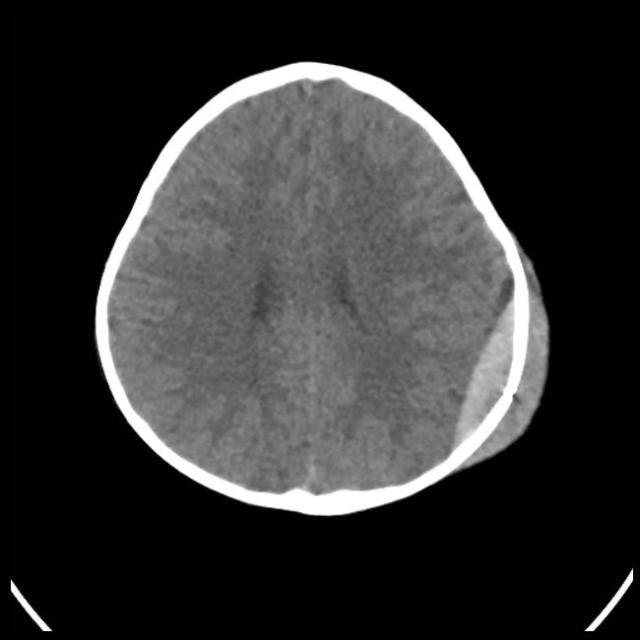lesion: (90, 59, 552, 516)
